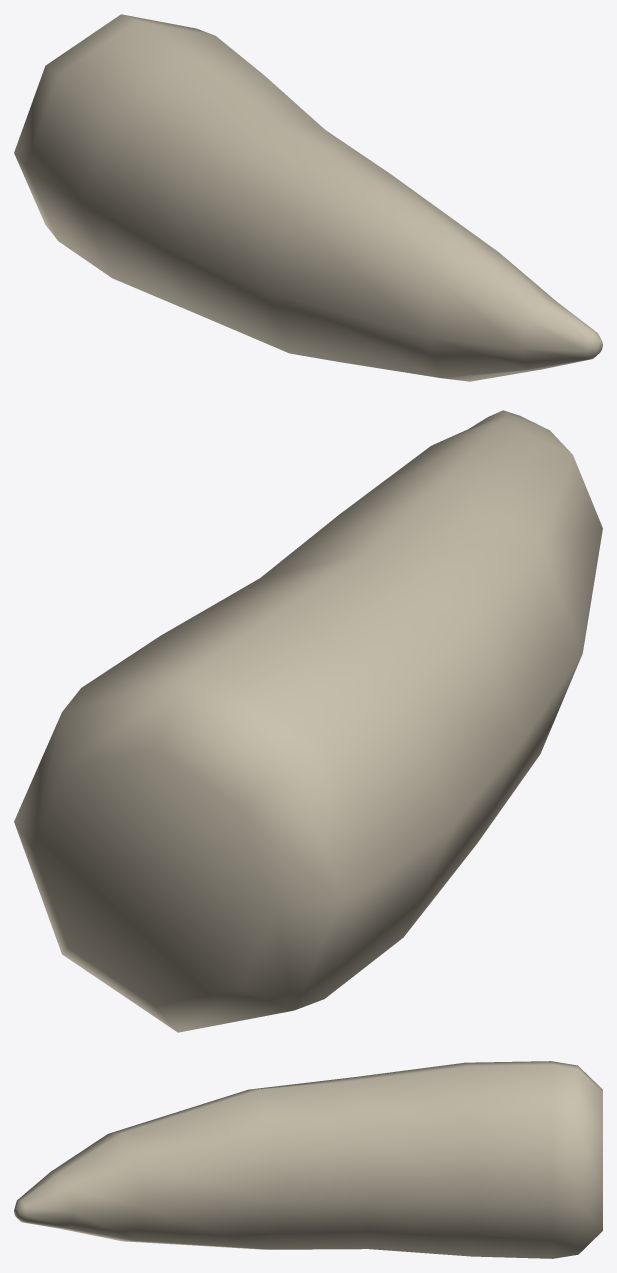
File: Fang_01.fbx
3 views of the same model, one above another, from view 1: azimuth 30°, elevation 25°; view 2: azimuth 150°, elevation 25°; view 3: azimuth 270°, elevation 25° (orthographic). The views are drawn at different scales.
Visible parts, largest first — view 1: Fang_01; view 2: Fang_01; view 3: Fang_01.
Boxes of the visible parts, box(x1,y1,x2,y2) form: Fang_01: box(14, 14, 602, 381); Fang_01: box(14, 410, 602, 1032); Fang_01: box(14, 1061, 602, 1258).
Bounding box in the file's own units: 0.0419 × 0.0373 × 0.1044.
